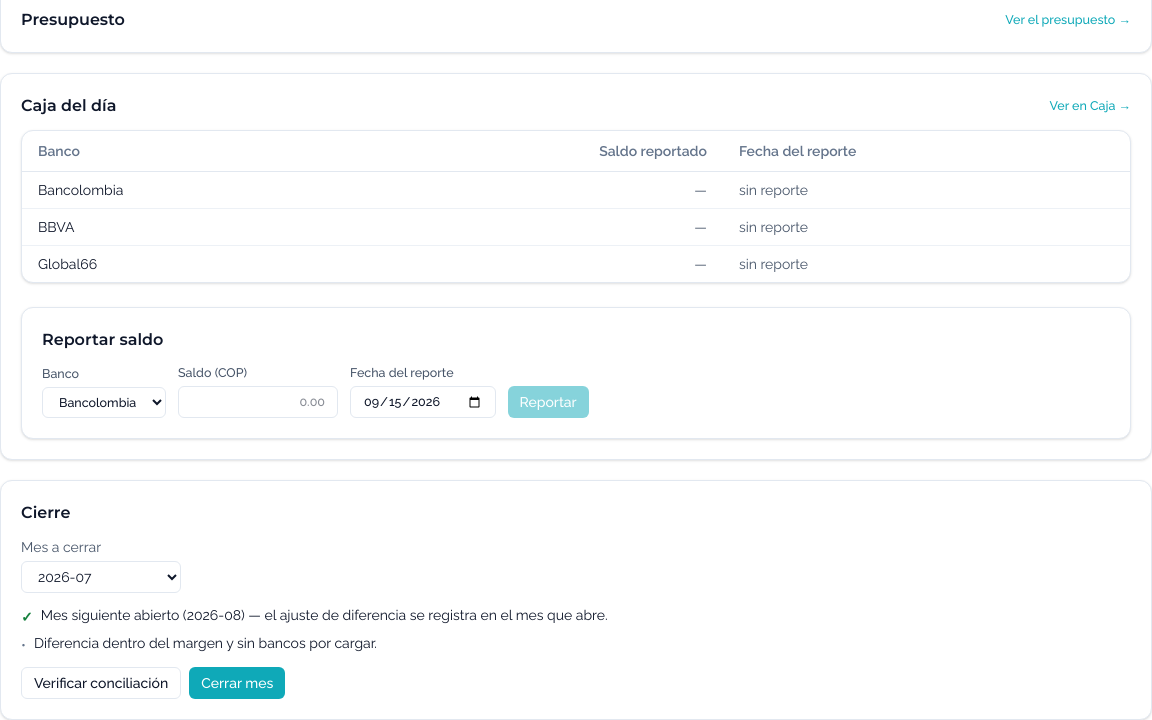
Test: CabinaMesPage — FIX-J: cierre en orden con selector de mes objetivo › objetivo agosto con julio en ejecución → nota 'cierra primero' y sin botón Cerrar
The width and height of the screenshot is (1152, 720).
(page scrolled)
Select "2026-08" in the dropdown labelled "Mes a cerrar" at (101, 577), box [21,561,181,593]
(page scrolled)
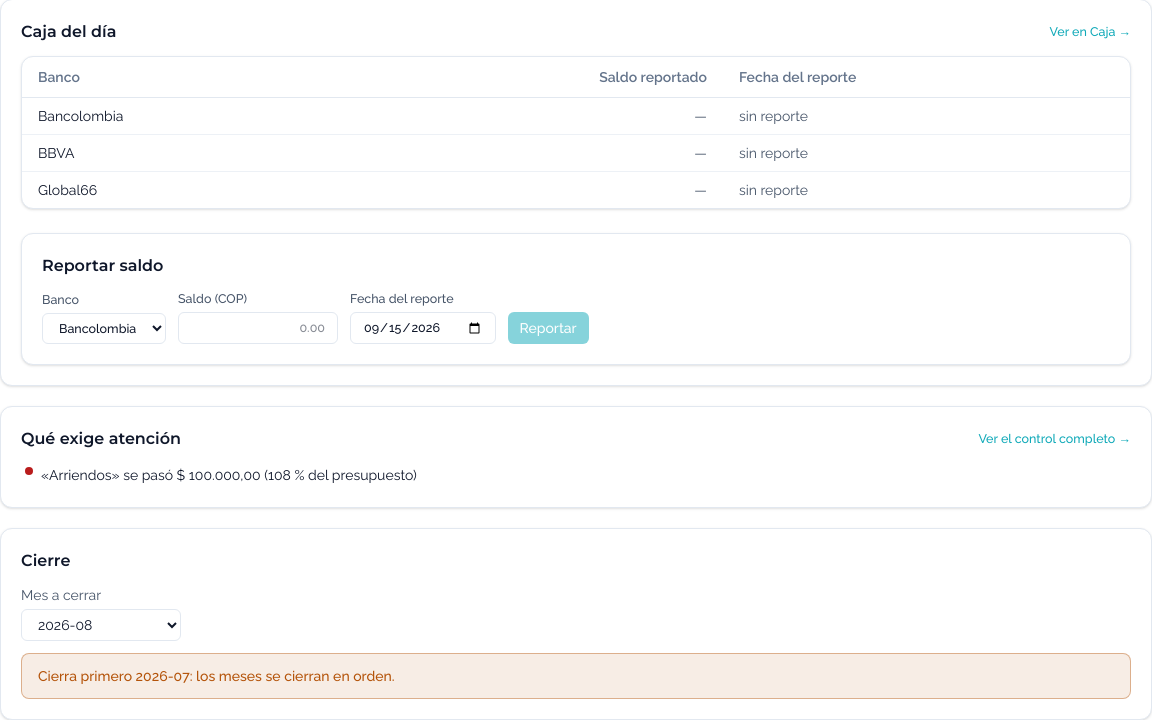
Now the text "Cierra primero 2026-07: los meses se cierran en orden." is shown, box [21,653,1131,699]
Now the button "Cerrar mes" is gone
